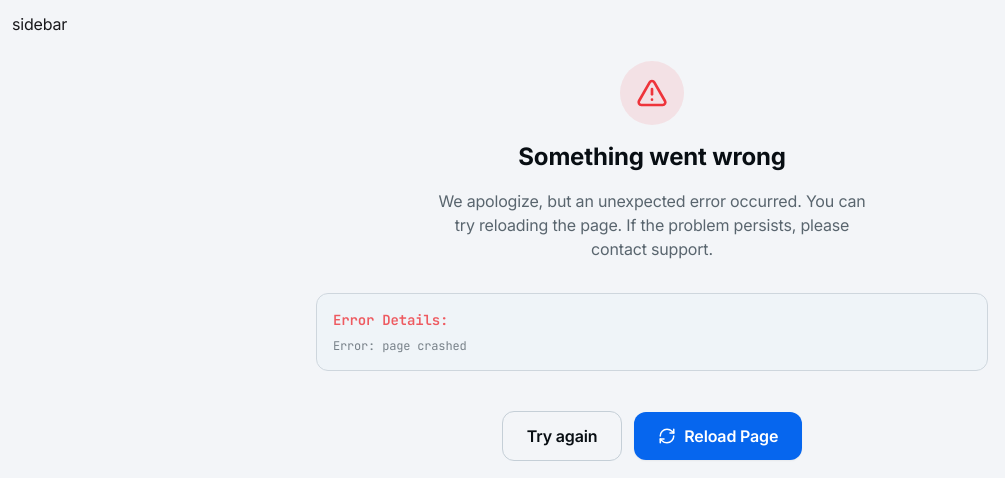
Scenario: ErrorBoundary › inline: shows the error inside the page area and "Try again" renders the page again
The image size is (1005, 478).
Expected: the message shows "Something went wrong", [518,142,786,171]
Expected: the message shows "page crashed", [333,338,466,354]
What coordinates should you click on to do the following:
click the button "Try again"
I would click on:
 (562, 436)
Its box is [502,411,622,461].
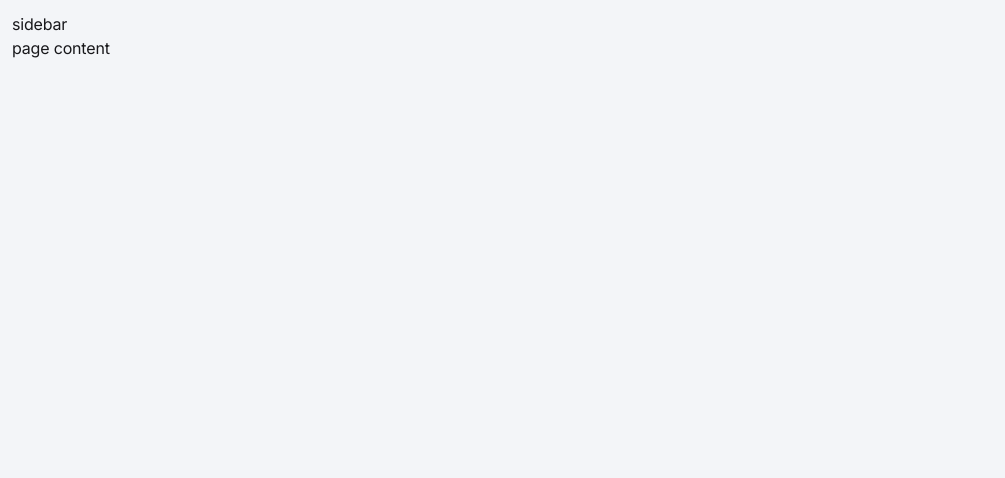
Now the text "page content" is shown, box [12,38,110,58]
